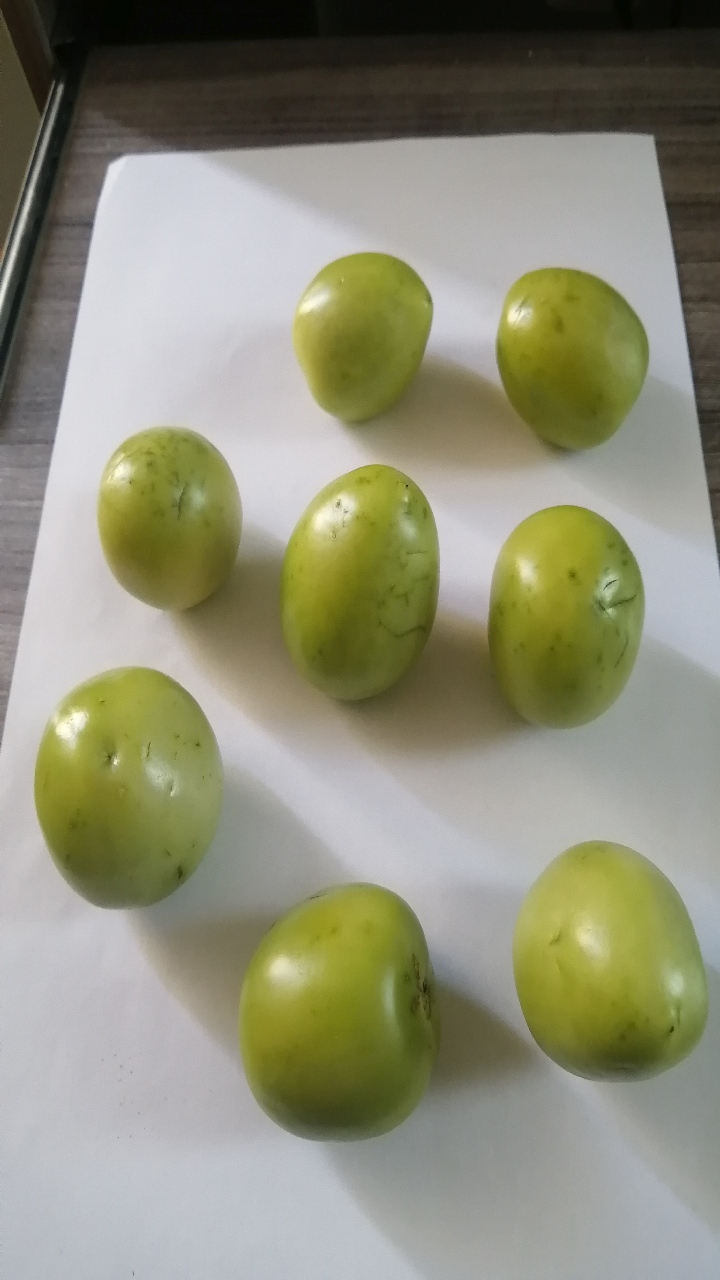tomateVerde: (217, 860, 461, 1168), (494, 812, 720, 1105), (21, 643, 254, 919), (252, 439, 455, 725), (471, 485, 664, 748), (464, 234, 661, 460), (71, 409, 258, 625), (272, 229, 452, 443)
